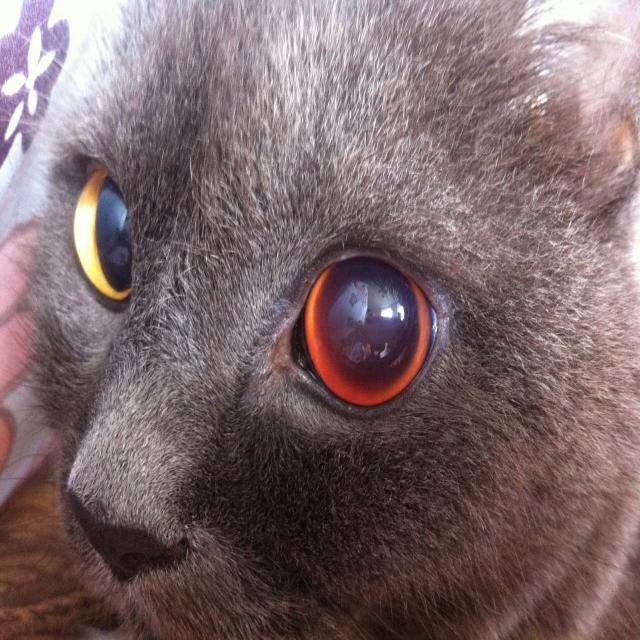cat-eye: (257, 235, 468, 423)
